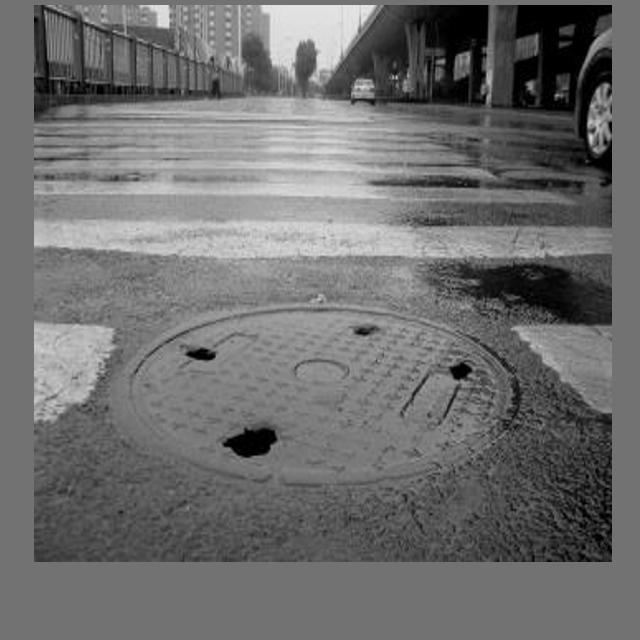broke: (77, 319, 527, 474)
